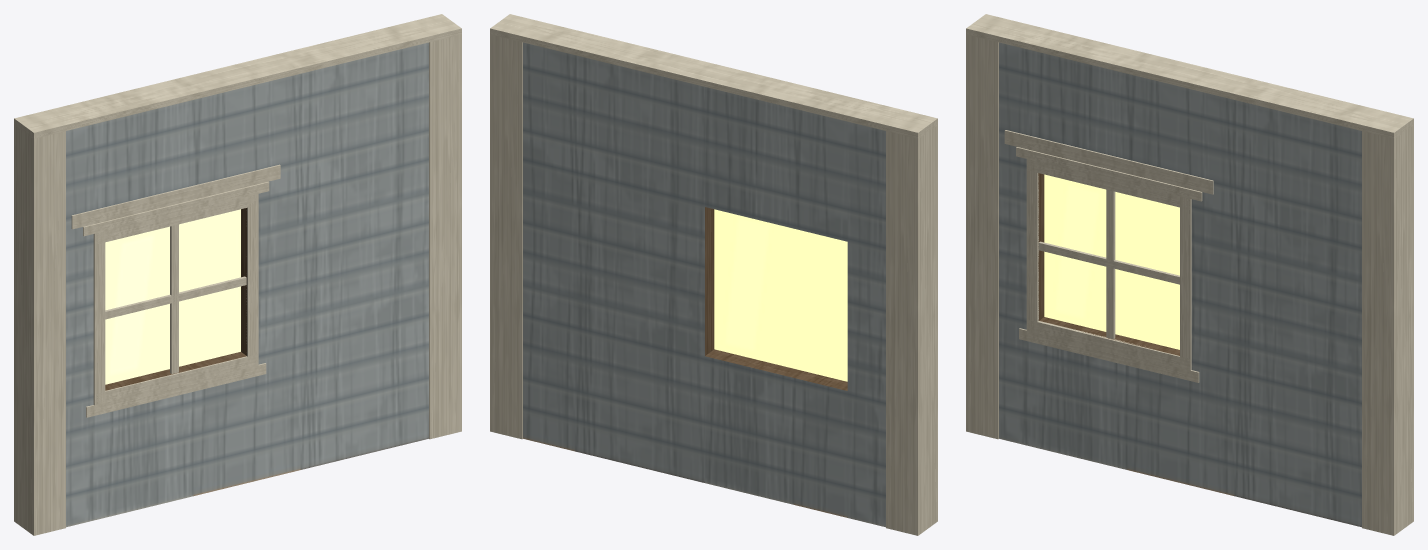
The model's file is house_02_wall_window.glb.
3 renders of one model, left to right at view 1: azimuth 30°, elevation 25°; view 2: azimuth 150°, elevation 25°; view 3: azimuth 330°, elevation 25°, orthographic.
Parts seen in each view (by area): view 1: outdoor_house_02_wall_window; view 2: outdoor_house_02_wall_window; view 3: outdoor_house_02_wall_window.
Boxes of the visible parts, bbox=[...] form: outdoor_house_02_wall_window: bbox=[14, 14, 461, 535]; outdoor_house_02_wall_window: bbox=[490, 14, 937, 535]; outdoor_house_02_wall_window: bbox=[966, 14, 1413, 535].
Bounding box in the file's own units: 3 × 2.7 × 0.24.
2 materials, 2 textured.
